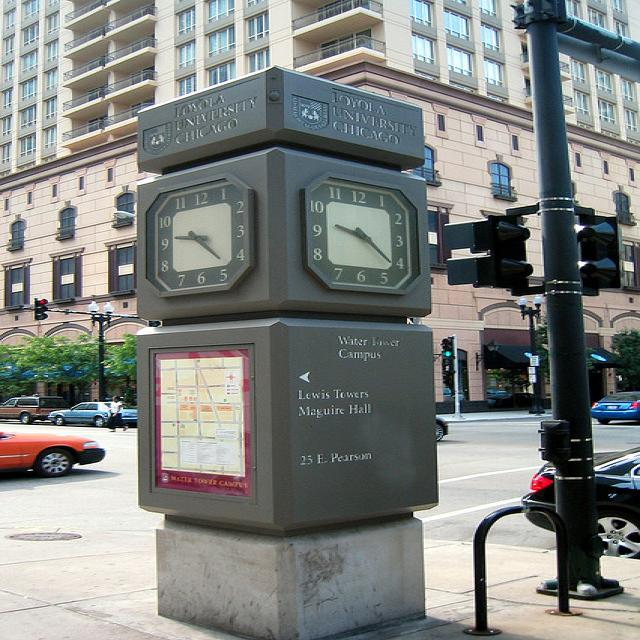Vehicle: (522, 447, 640, 558), (0, 428, 106, 475), (48, 401, 138, 427), (0, 395, 73, 424), (592, 391, 640, 425), (433, 413, 451, 442)
